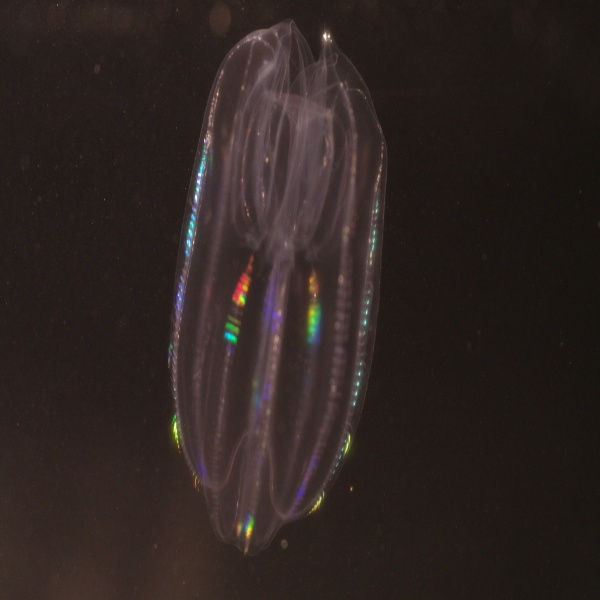Jellyfish: (162, 14, 389, 557)
